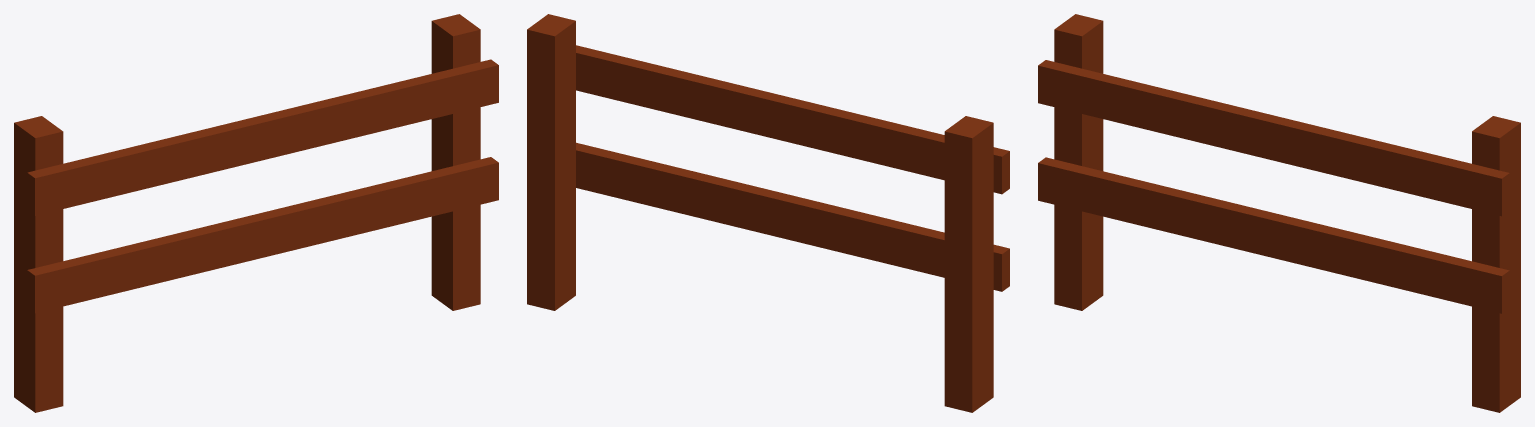
Rendered from fence.fbx.
3 views of the same model, side by side, from view 1: azimuth 30°, elevation 25°; view 2: azimuth 150°, elevation 25°; view 3: azimuth 330°, elevation 25° (orthographic).
Parts seen in each view (by area): view 1: Cube; view 2: Cube; view 3: Cube.
Boxes of the visible parts, <box> form: Cube: <box>14,14,498,412</box>; Cube: <box>527,14,1009,412</box>; Cube: <box>1038,14,1520,412</box>.
Size of the model in its own units: 332 by 188 by 36.3.
